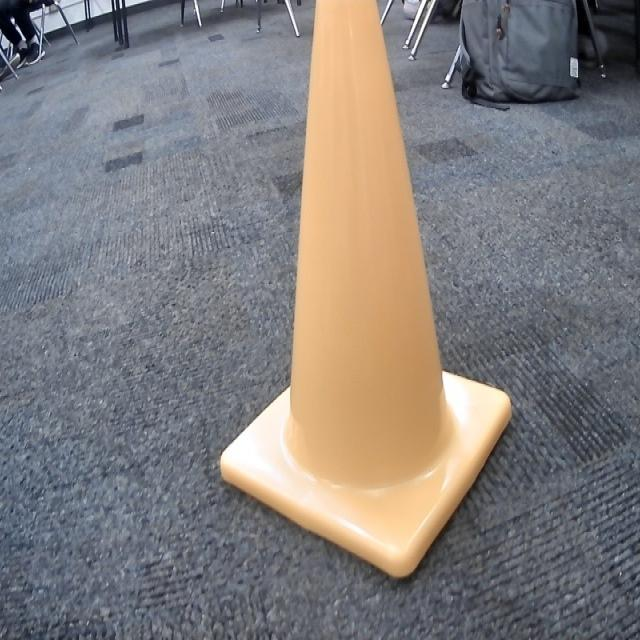cone: (217, 0, 513, 582)
